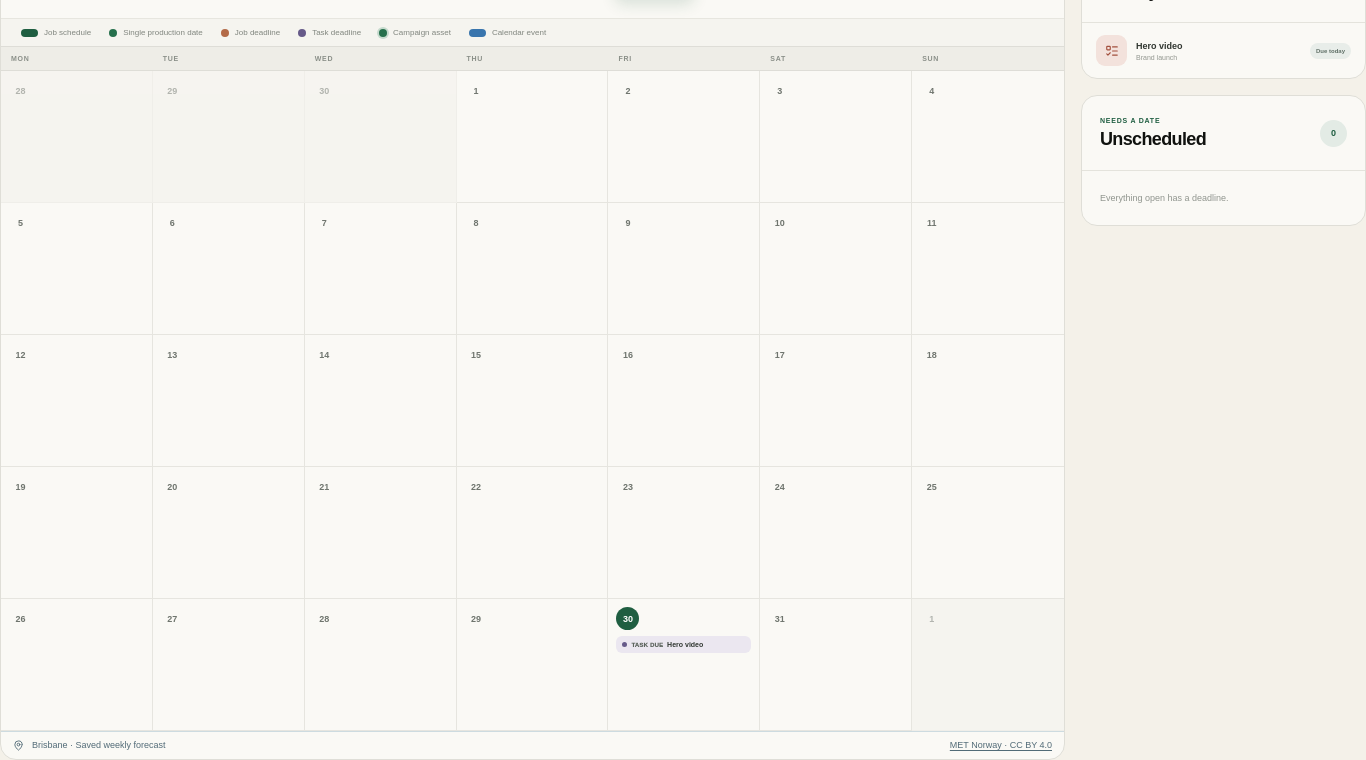
CalendarManager completed work › shows task deadlines as inherited from their job rather than editable dates
This screenshot has width=1366, height=760.
(page scrolled)
Click the button with class "calendar-event".
click(684, 644)  # box [616,636,751,653]
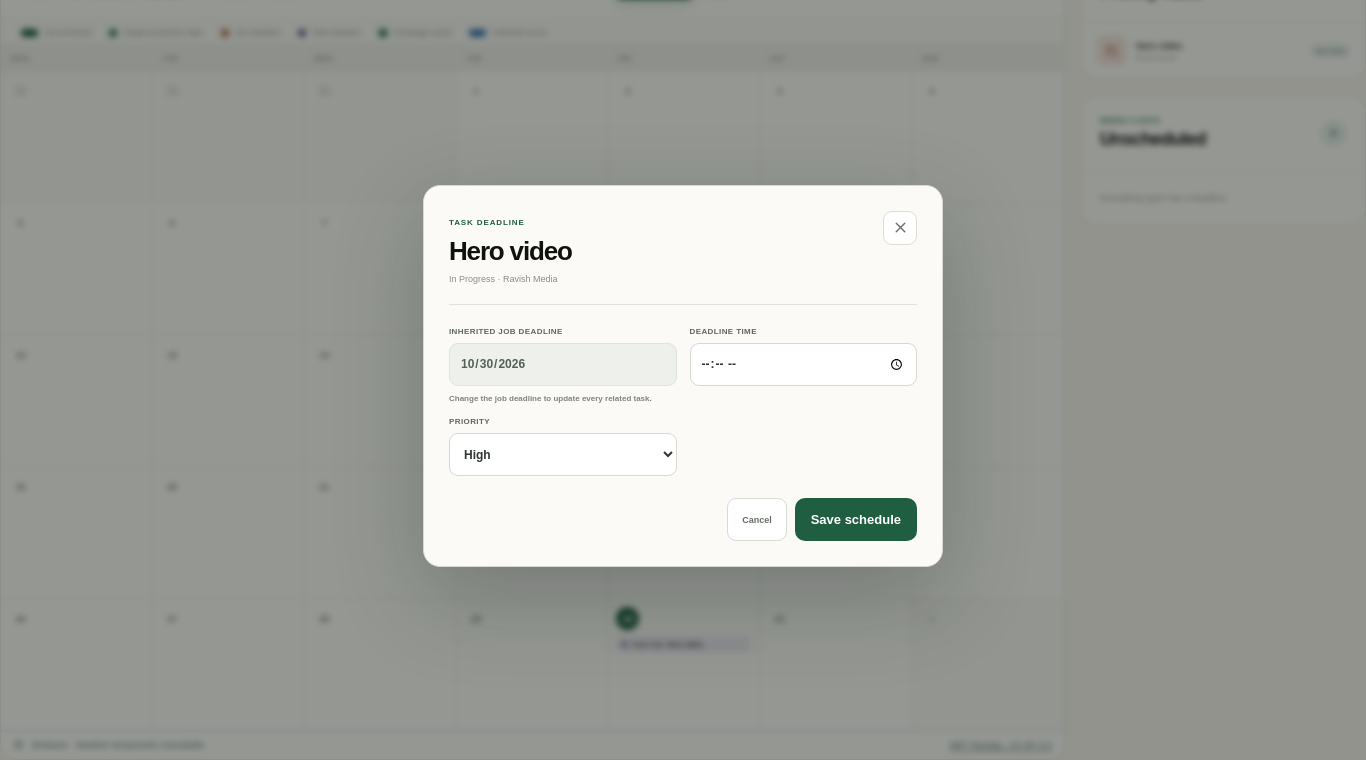
Now the date field is disabled, box [449,343,676,386]
Now the text "Change the job deadline to update every related task." is shown, box [449,393,676,404]
